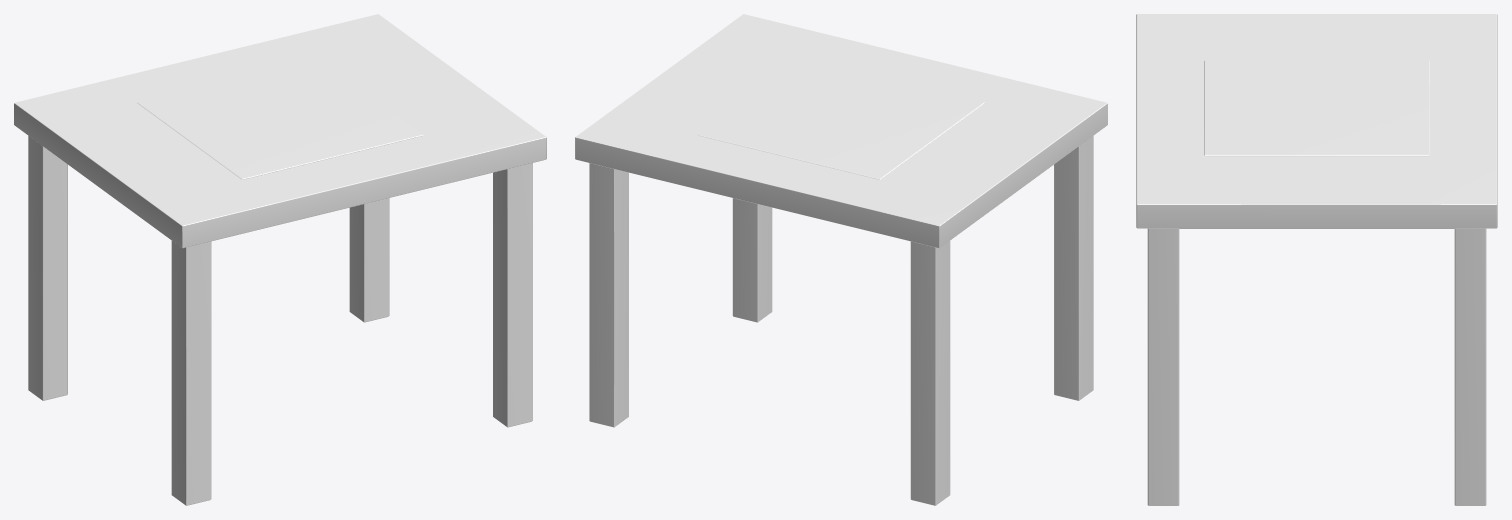
The model's file is dining_table.glb.
3 renders of one model, left to right at view 1: azimuth 30°, elevation 25°; view 2: azimuth 150°, elevation 25°; view 3: azimuth 270°, elevation 25°, orthographic. The views are drawn at different scales.
Visible parts, largest first — view 1: DiningTable; view 2: DiningTable; view 3: DiningTable.
Part boxes in pixels (x1,y1,x2,y2): DiningTable: [14, 14, 546, 505]; DiningTable: [575, 14, 1107, 505]; DiningTable: [1136, 14, 1497, 505].
Size of the model in its own units: 1 by 0.754 by 0.8.
Materials: 1 (1 with a texture image).
